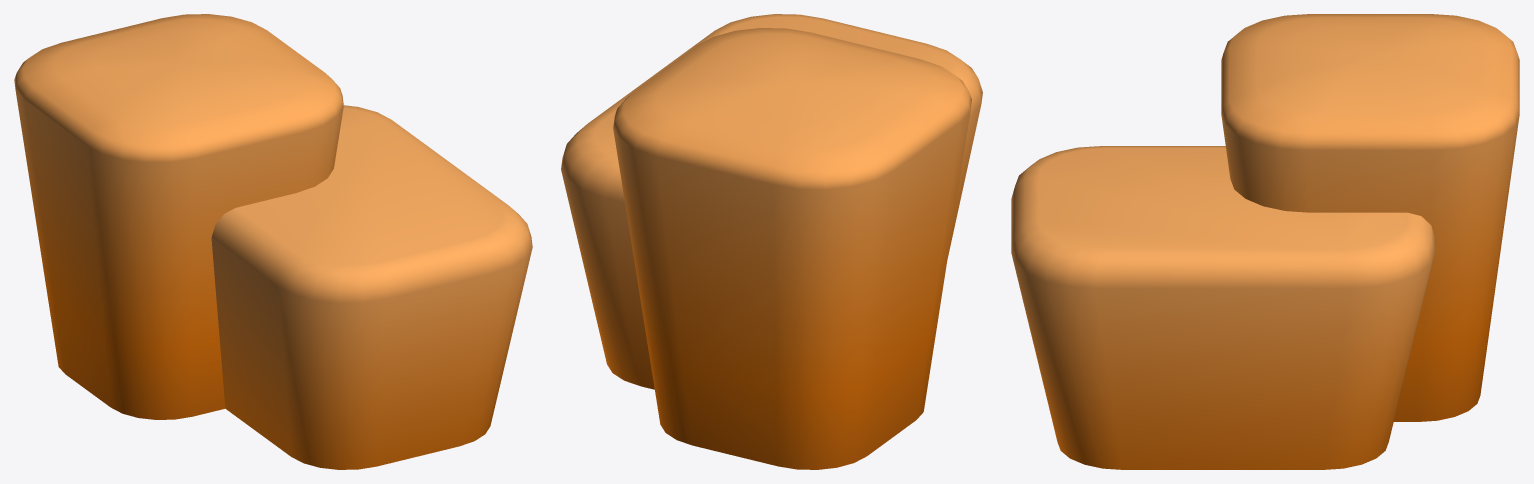
The model's file is Rock_A_03.fbx.
3 views of the same model, side by side, from view 1: azimuth 30°, elevation 25°; view 2: azimuth 150°, elevation 25°; view 3: azimuth 270°, elevation 25° (orthographic). The views are drawn at different scales.
Parts seen in each view (by area): view 1: Rock_A_03; view 2: Rock_A_03; view 3: Rock_A_03.
Boxes of the visible parts, box(x1,y1,x2,y2) form: Rock_A_03: box(14, 14, 532, 469); Rock_A_03: box(561, 14, 982, 469); Rock_A_03: box(1011, 14, 1519, 469).
Size of the model in its own units: 157 by 137 by 197.
